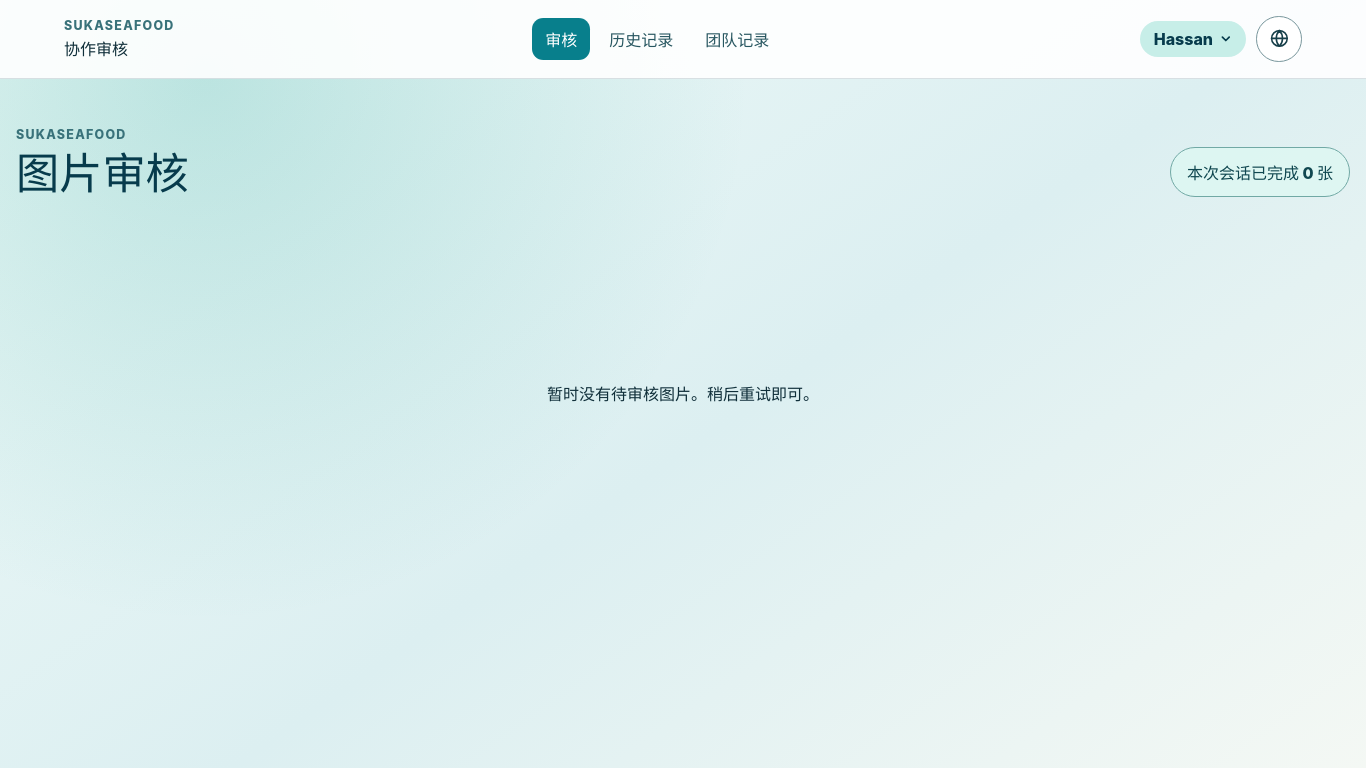
Test: production-shell integration › puts account actions in the username menu and renders language switching as an icon button
This screenshot has width=1366, height=768.
Expected: the 2nd icon is shown, [1269,28,1290,49]
Click the button named "切换到 English": (1279, 39) [1256,16,1302,62]
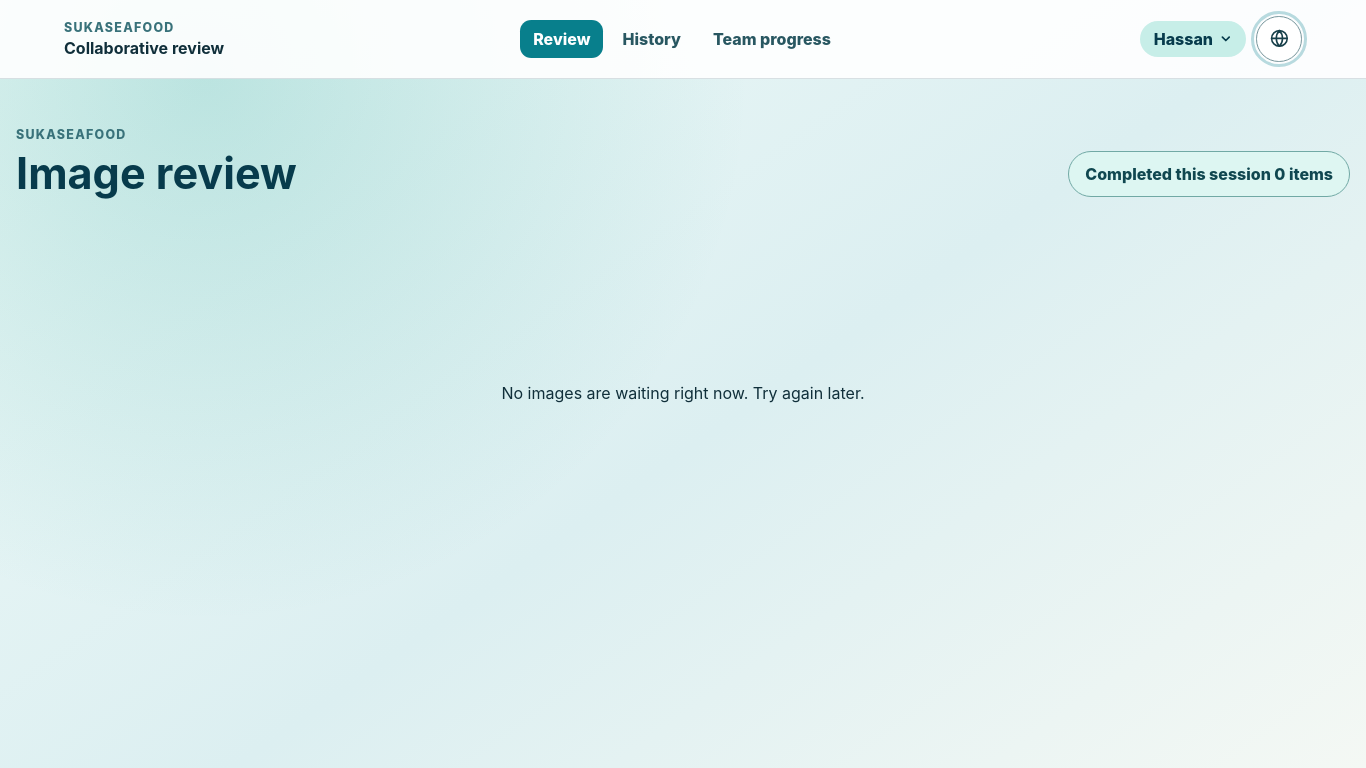
Expected: the button named "Switch to 中文" is shown, [1256,16,1302,62]
Click the button with aria-label "Hassan Account menu": (1193, 39) [1140,21,1246,57]
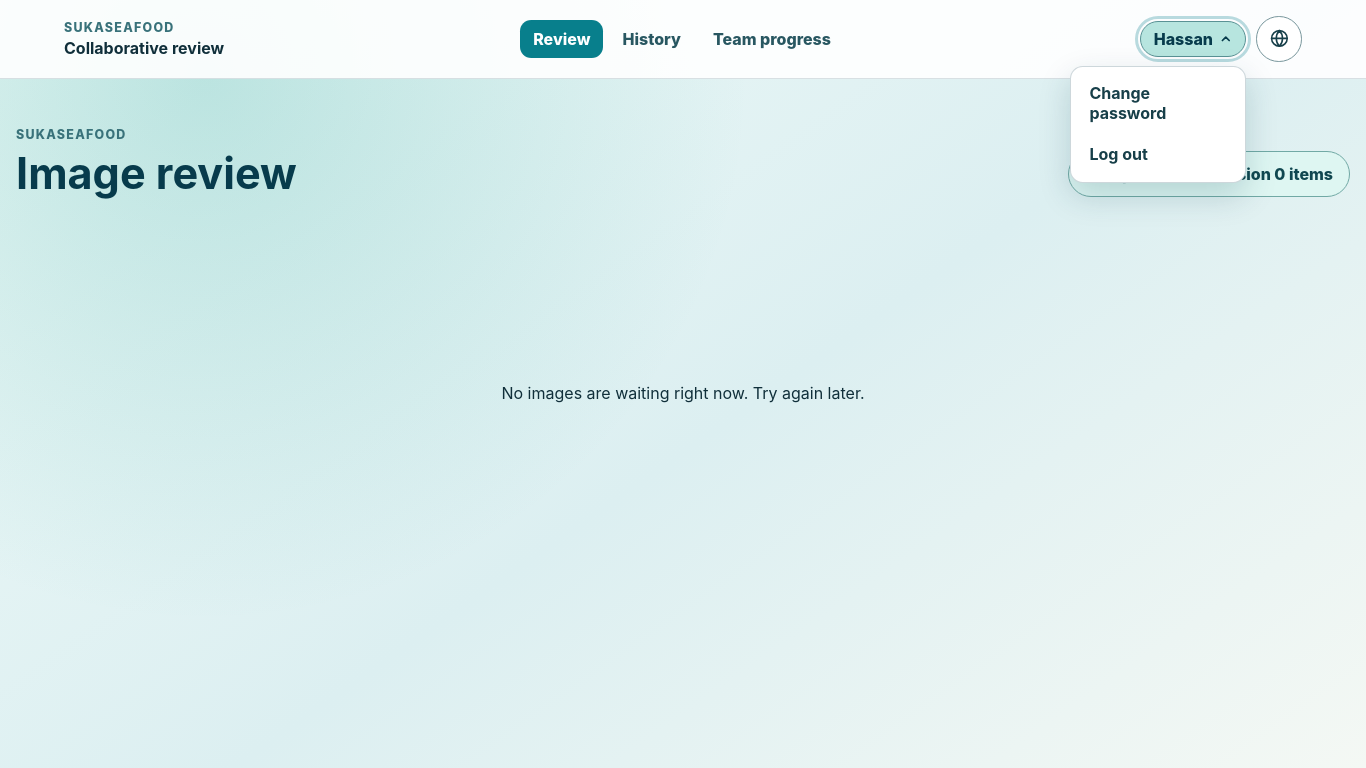
Expected: the menu item "Change password" is shown, [1077,73,1239,132]
Expected: the menu item "Log out" is shown, [1077,132,1239,176]
Press Escape
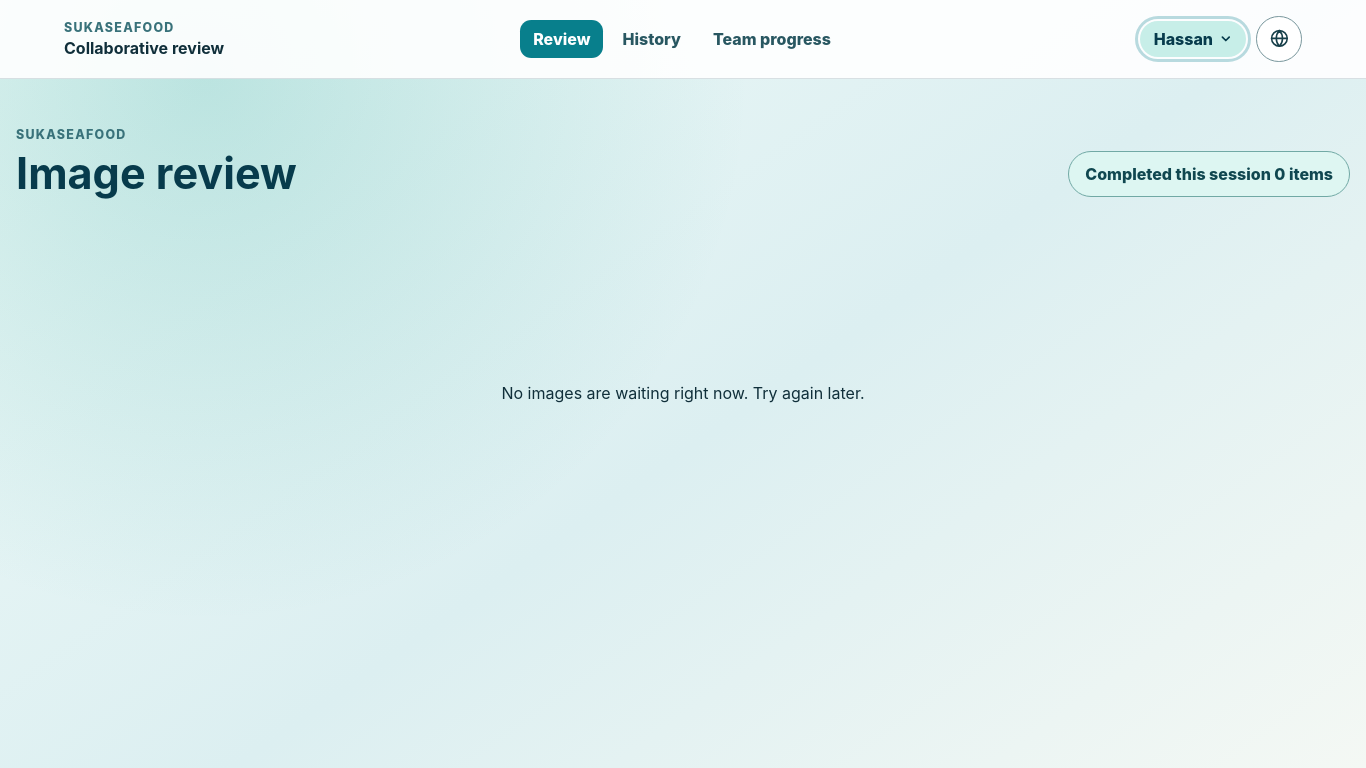
Expected: the menu is gone
